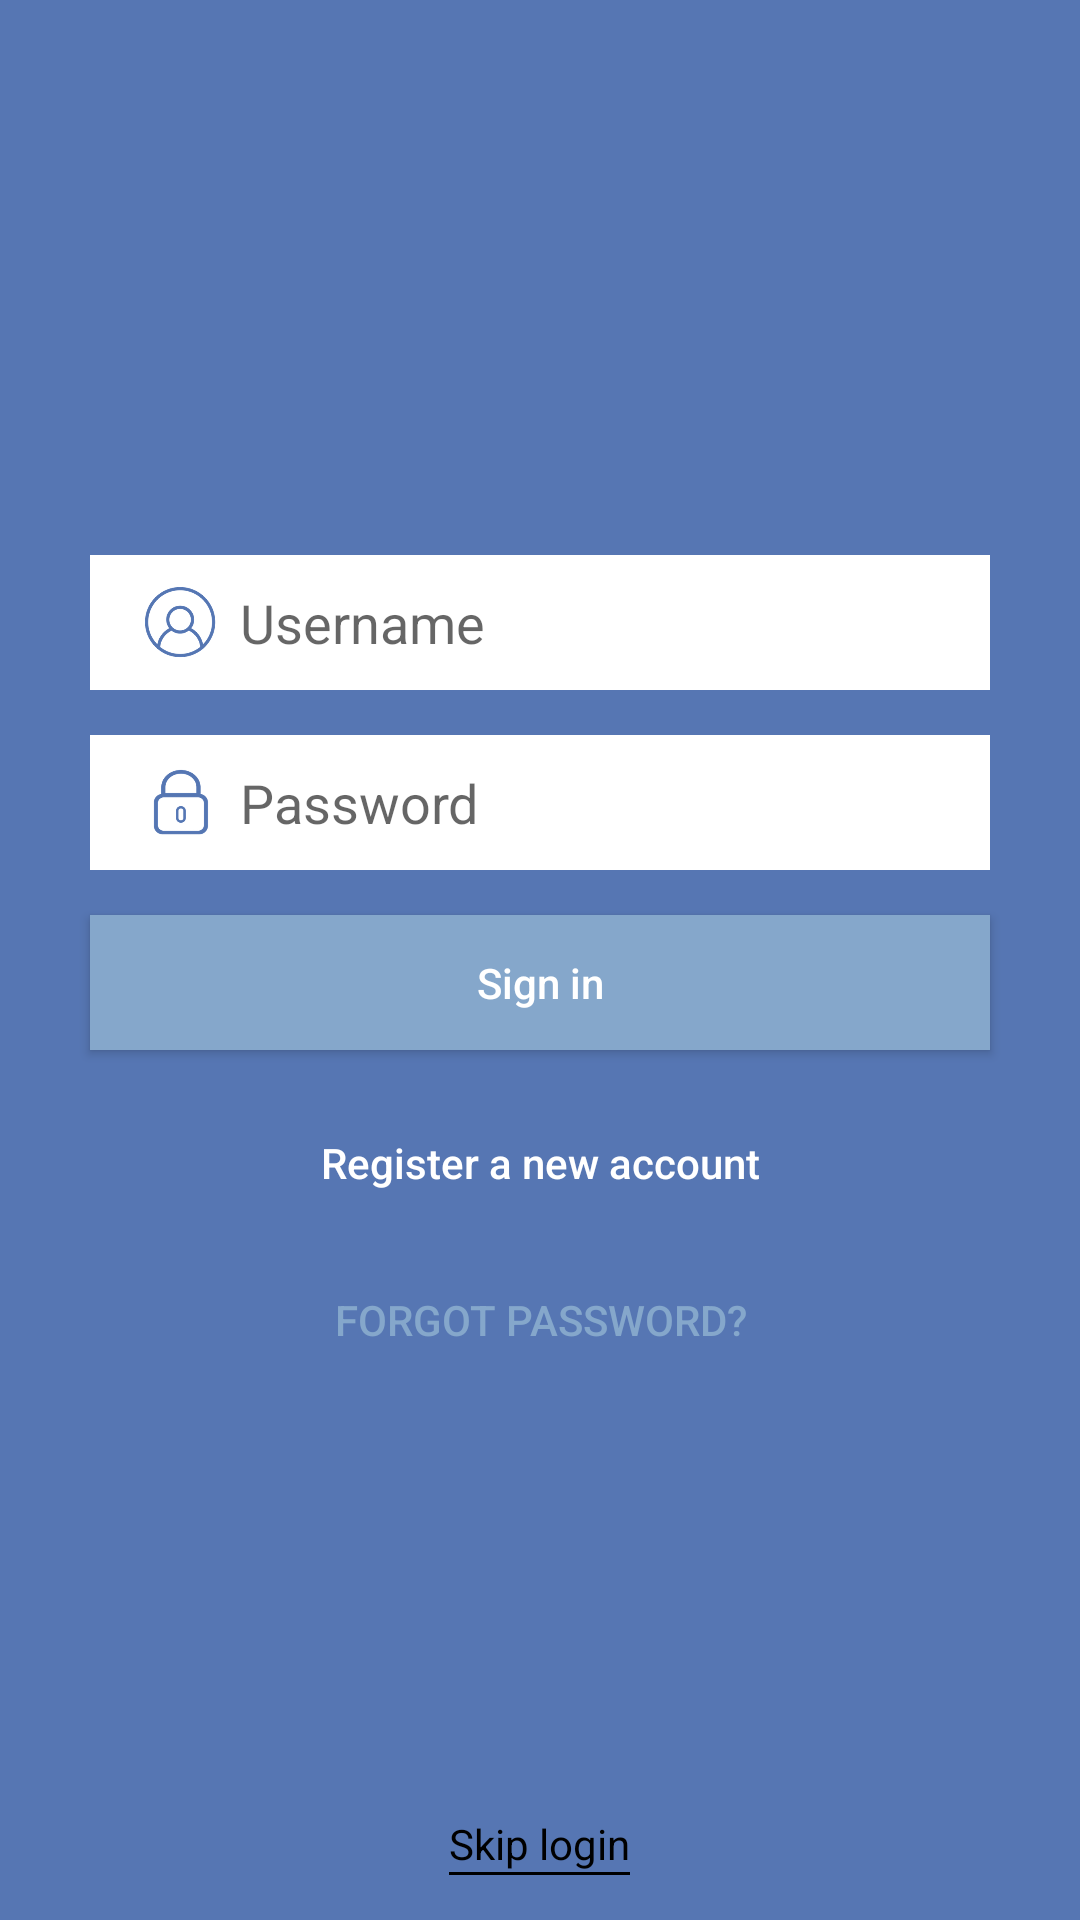

Named icons in this screenshot (1080x1920) and their centers, [x,y]:
lock: [181,802]
profile: [180,622]
